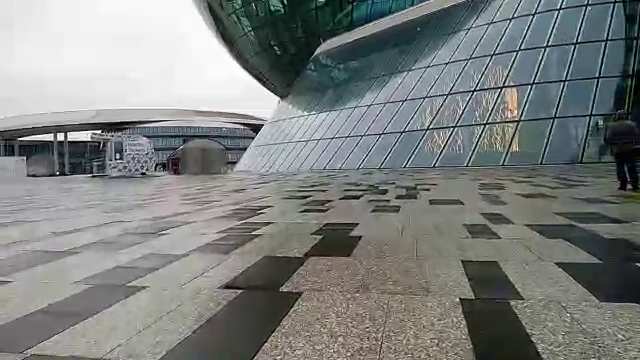kassa: (86, 122, 163, 184)
